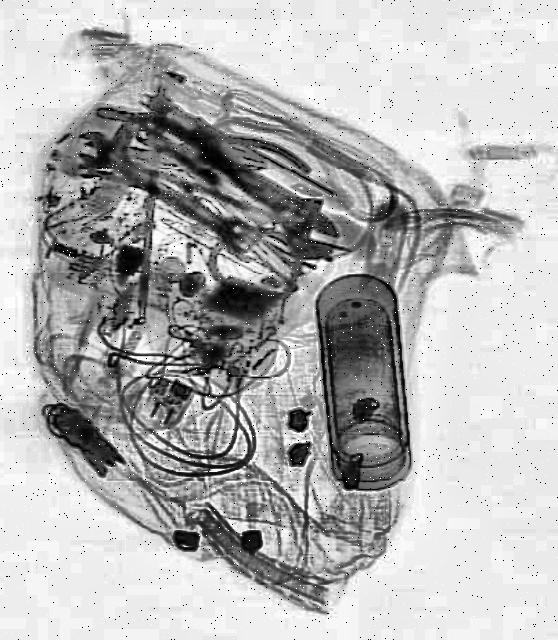Wrench: (126, 81, 360, 282), (72, 126, 258, 264)
